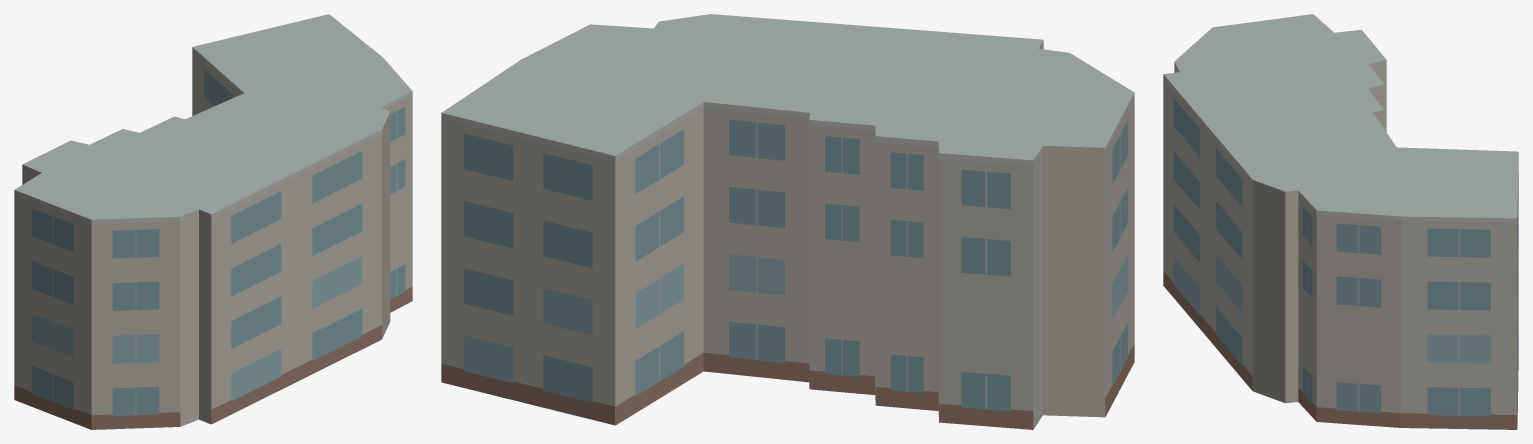
The model's file is survey-upis-32998282.glb.
The picture shows the model from 3 angles, left to right: view 1: azimuth 30°, elevation 25°; view 2: azimuth 150°, elevation 25°; view 3: azimuth 270°, elevation 25°; orthographic projection. The views are drawn at different scales.
Parts seen in each view (by area): view 1: survey-upis-32998282.tmp; view 2: survey-upis-32998282.tmp; view 3: survey-upis-32998282.tmp.
Part boxes in pixels (left/top/right/bottom): survey-upis-32998282.tmp: left=14, top=14, right=412, bottom=429; survey-upis-32998282.tmp: left=441, top=14, right=1134, bottom=429; survey-upis-32998282.tmp: left=1163, top=14, right=1518, bottom=429.
Bounding box in the file's own units: 24.26 × 11.7 × 17.81.
